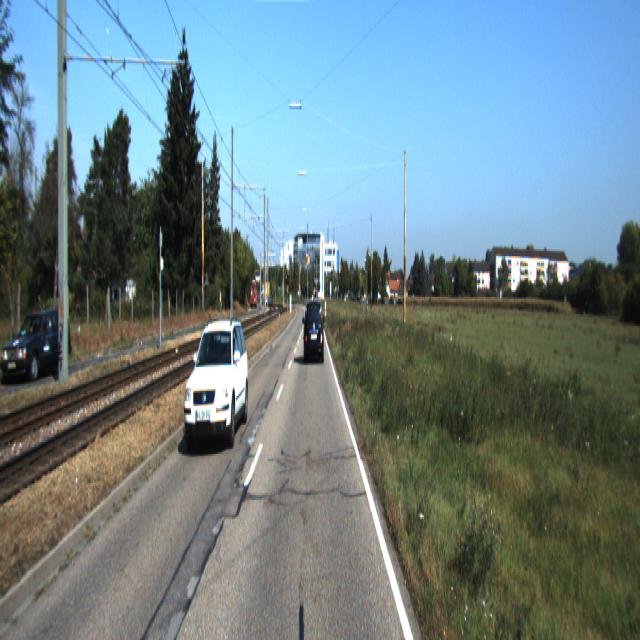Car: (184, 317, 251, 453), (1, 306, 73, 386), (304, 298, 324, 364)
